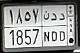1: (8, 8, 15, 46)
5: (23, 10, 32, 45)
7: (32, 8, 40, 45)
8: (14, 8, 23, 46)
D: (51, 12, 59, 42), (59, 12, 66, 42)
N: (42, 10, 51, 43)
